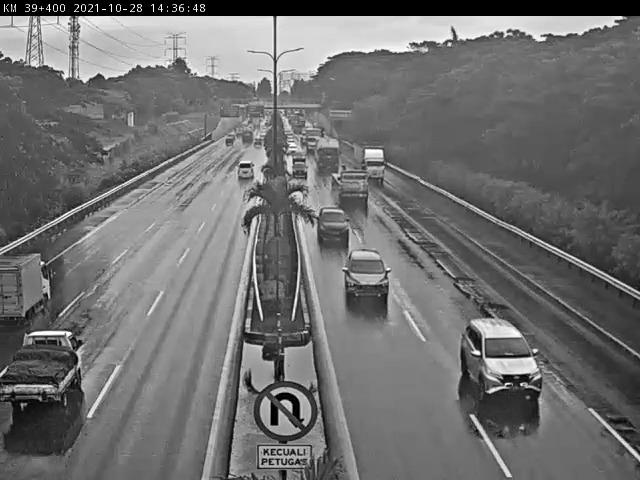big truck: (359, 147, 379, 176), (321, 138, 339, 162)
car: (379, 401, 472, 480), (454, 328, 526, 396), (339, 248, 386, 297), (326, 164, 362, 203), (313, 195, 339, 231), (236, 167, 266, 192), (289, 156, 308, 172)
small truck: (6, 352, 51, 438), (5, 250, 48, 317)
